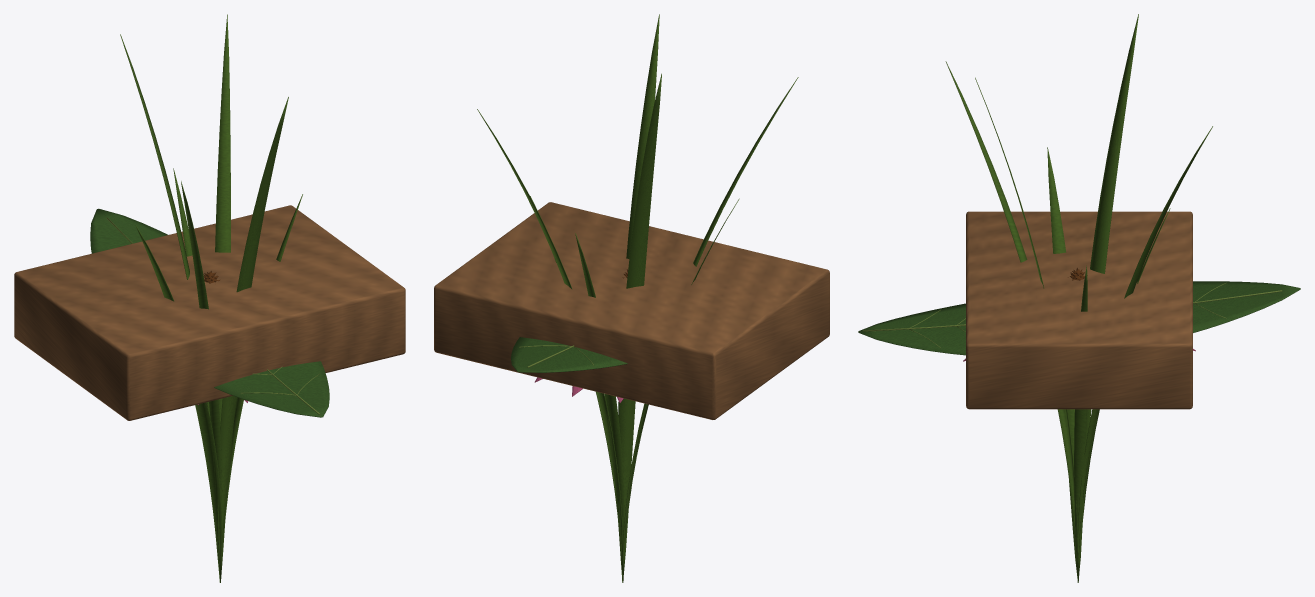
Rendered from preserve_first_set_cm.fbx.
3 views of the same model, side by side, from view 1: azimuth 30°, elevation 25°; view 2: azimuth 150°, elevation 25°; view 3: azimuth 270°, elevation 25° (orthographic). The views are drawn at different scales.
Parts seen in each view (by area): view 1: bench_slat_end, grass_clump, milkweed_leaf; view 2: bench_slat_end, grass_clump, milkweed_leaf; view 3: bench_slat_end, grass_clump, milkweed_leaf.
Part boxes in pixels (box(x1,y1,x2,y2)): bench_slat_end: box(14, 205, 405, 420); grass_clump: box(120, 14, 302, 582); milkweed_leaf: box(90, 208, 329, 417); bench_slat_end: box(434, 202, 829, 419); grass_clump: box(477, 14, 798, 582); milkweed_leaf: box(511, 337, 627, 372); bench_slat_end: box(966, 211, 1192, 409); grass_clump: box(945, 14, 1212, 582); milkweed_leaf: box(858, 281, 1300, 355).
Bounding box in the file's own units: 14 × 26.04 × 19.5.
